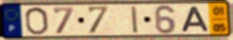6: (154, 4, 177, 35)
7: (86, 6, 111, 36), (51, 6, 75, 35)
A: (179, 6, 211, 33)
I: (129, 5, 140, 35)
O: (23, 6, 50, 36)
